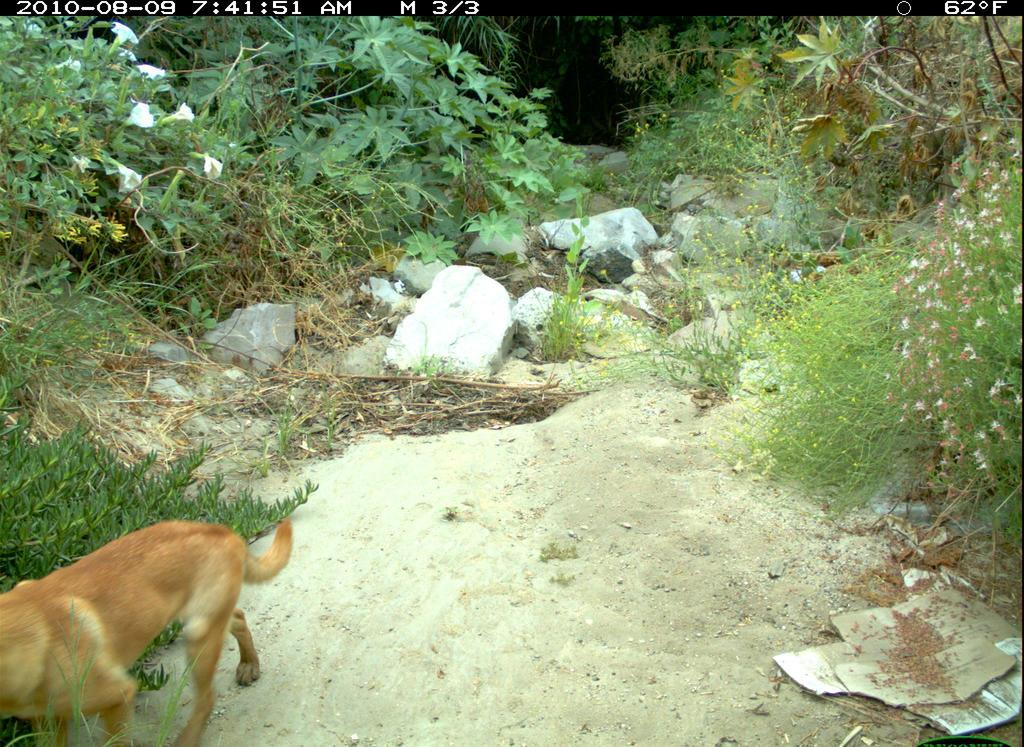dog: (1, 506, 299, 747)
